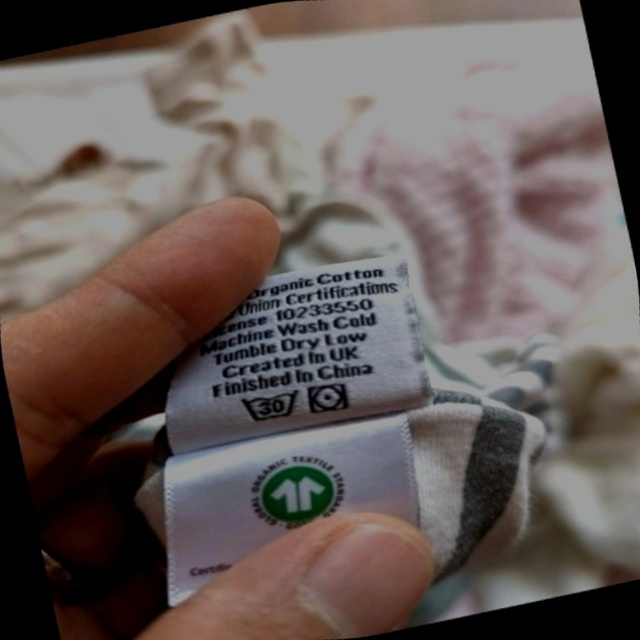30C: (228, 373, 312, 439)
tumble_dry_low: (297, 370, 360, 427)
